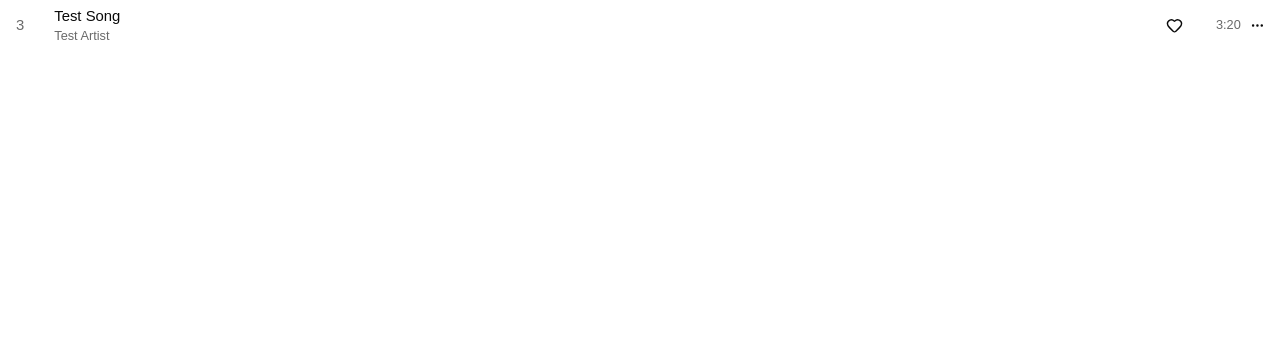
Scenario: SongRow › offers play-next and add-to-queue in the overflow menu
The image size is (1279, 361).
What coordinates should you click on to do the following:
click the button named "More options"
I would click on:
 (1258, 25)
Its box is [1245,13,1270,38].
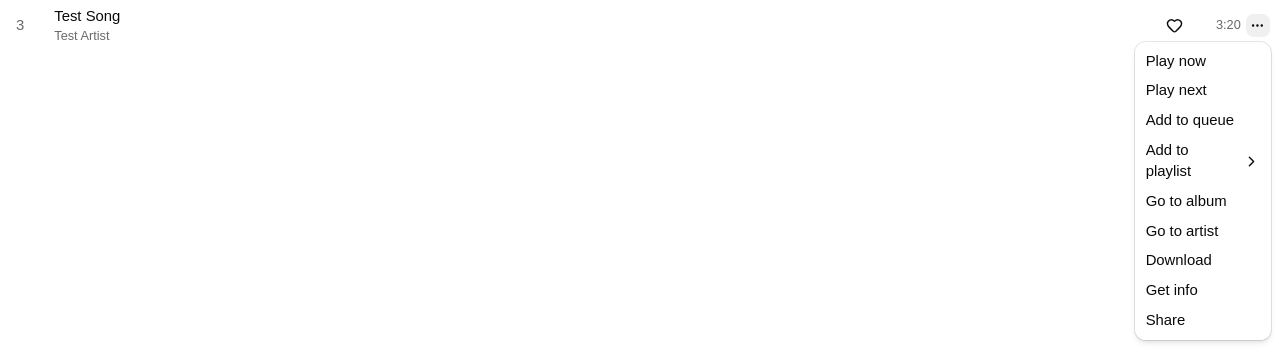
Now the menu item "Play next" is shown, box [1146,82,1207,98]
Now the menu item "Add to queue" is shown, box [1146,112,1234,128]
